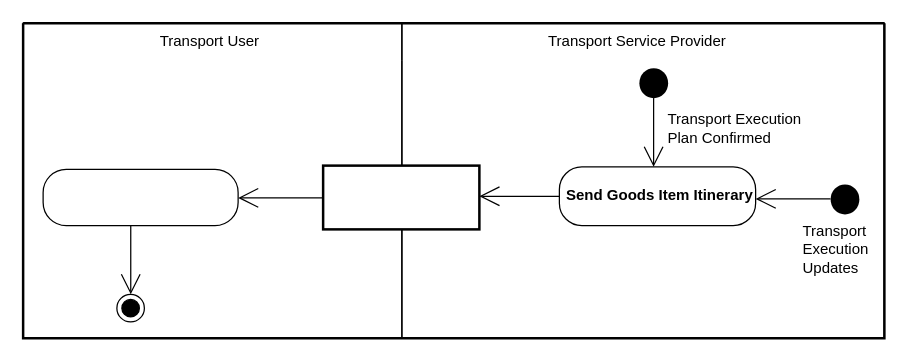
The diagram is 906 pixels wide and 360 high, and some of its shapes have lost their labels. Here are the shapes that lost their labels. From the top down, the box of each, then its label:
(42, 168, 238, 226): Receive Goods Item Itinerary
(321, 164, 480, 230): Goods Item Itinerary
